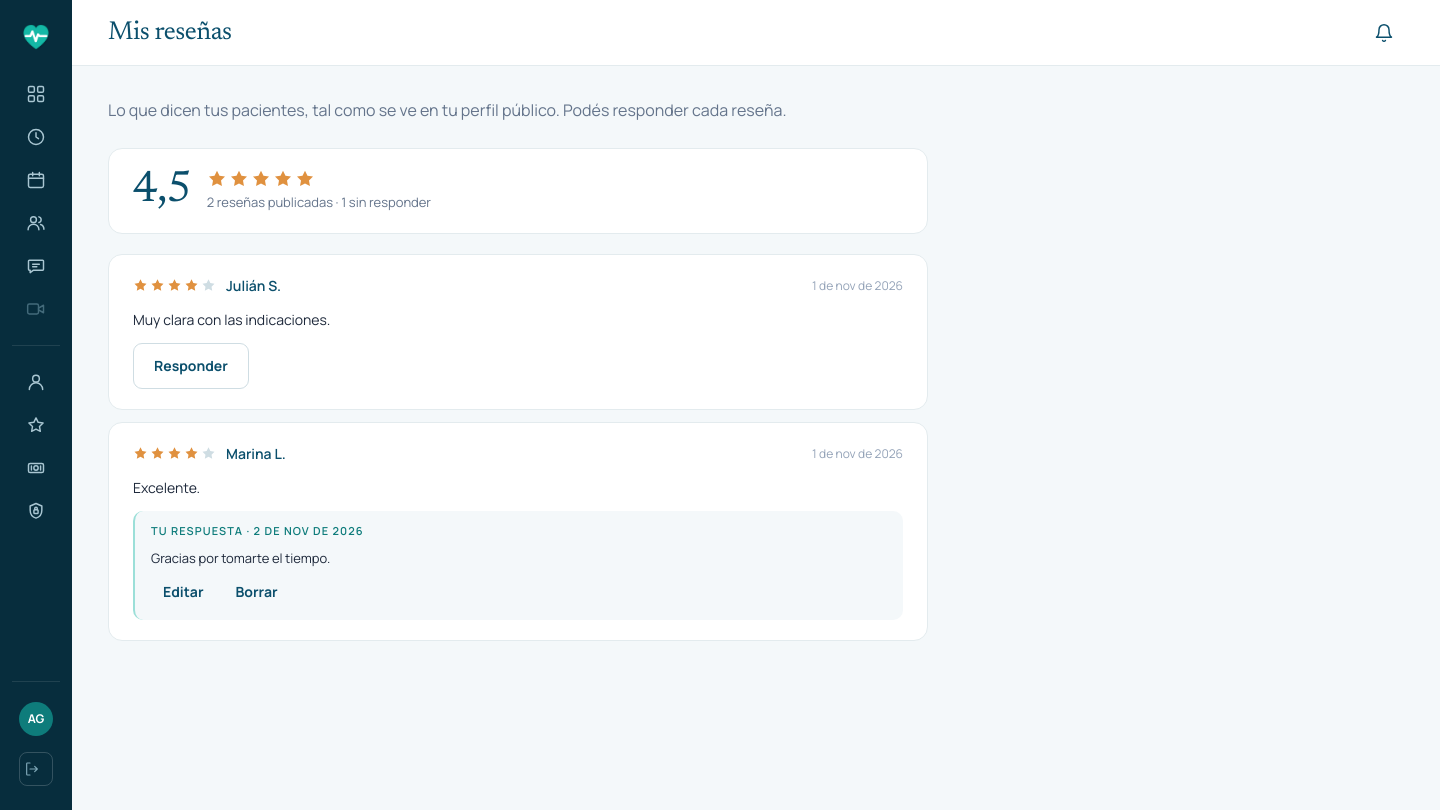
Test: Mis reseñas (ENG-106) › responde una reseña y la respuesta queda publicada
Click the button "Responder" at (191, 366), box [133,343,249,389]
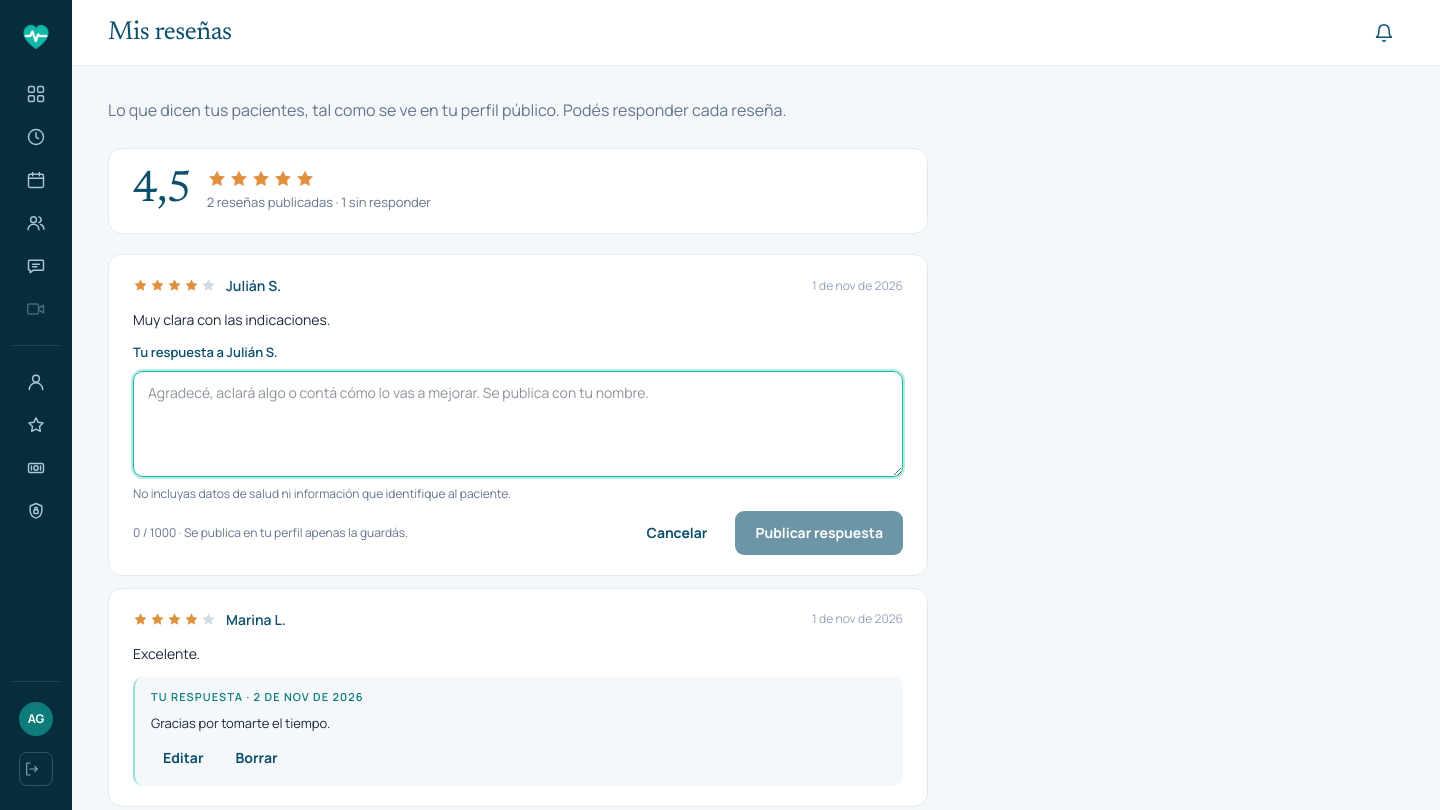
Type "  Gracias, Julián. Nos vemos en el control.  " into the text box labelled "Tu respuesta a Julián S." at (518, 424), box [133,371,903,477]
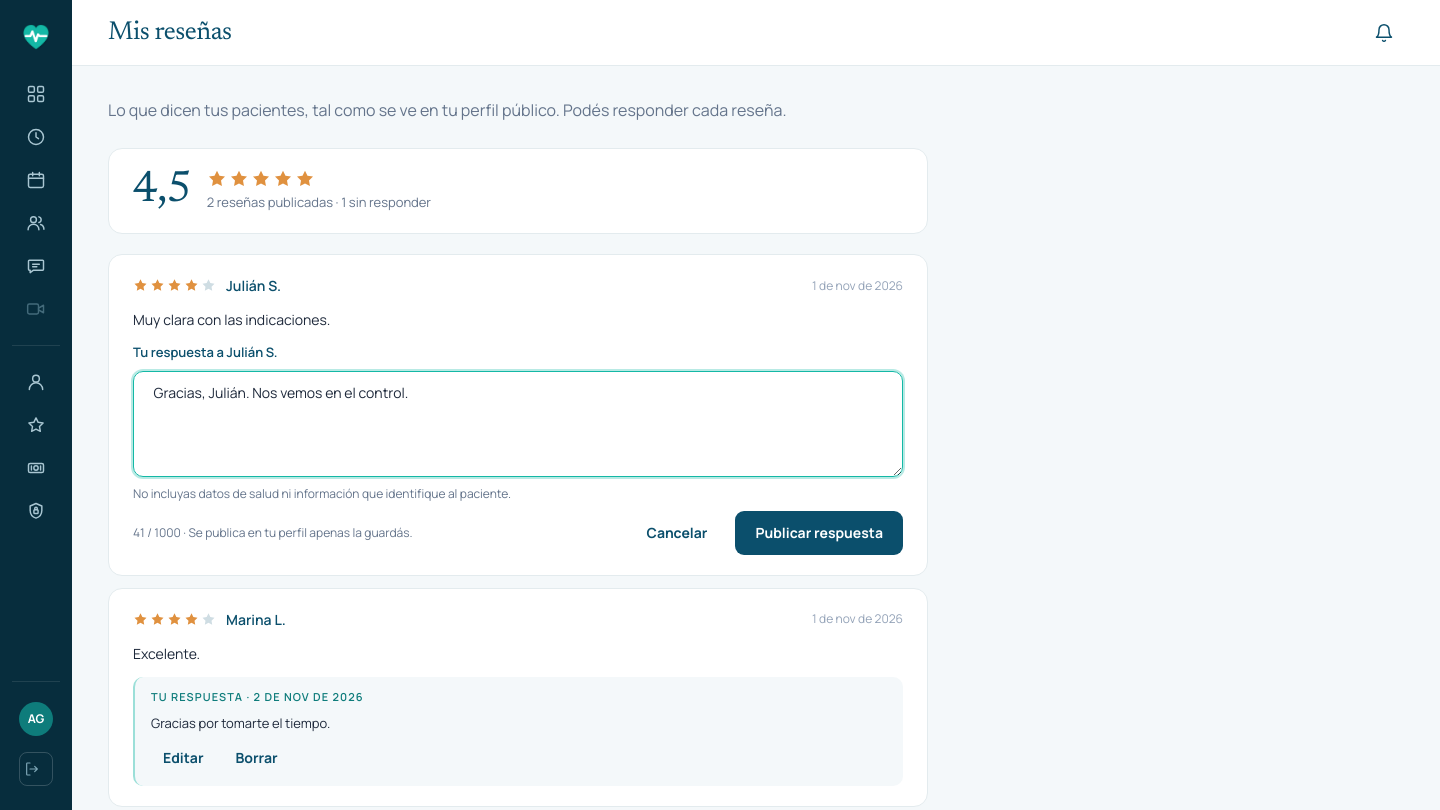
Click the button "Publicar respuesta" at (819, 533), box [736,511,903,555]
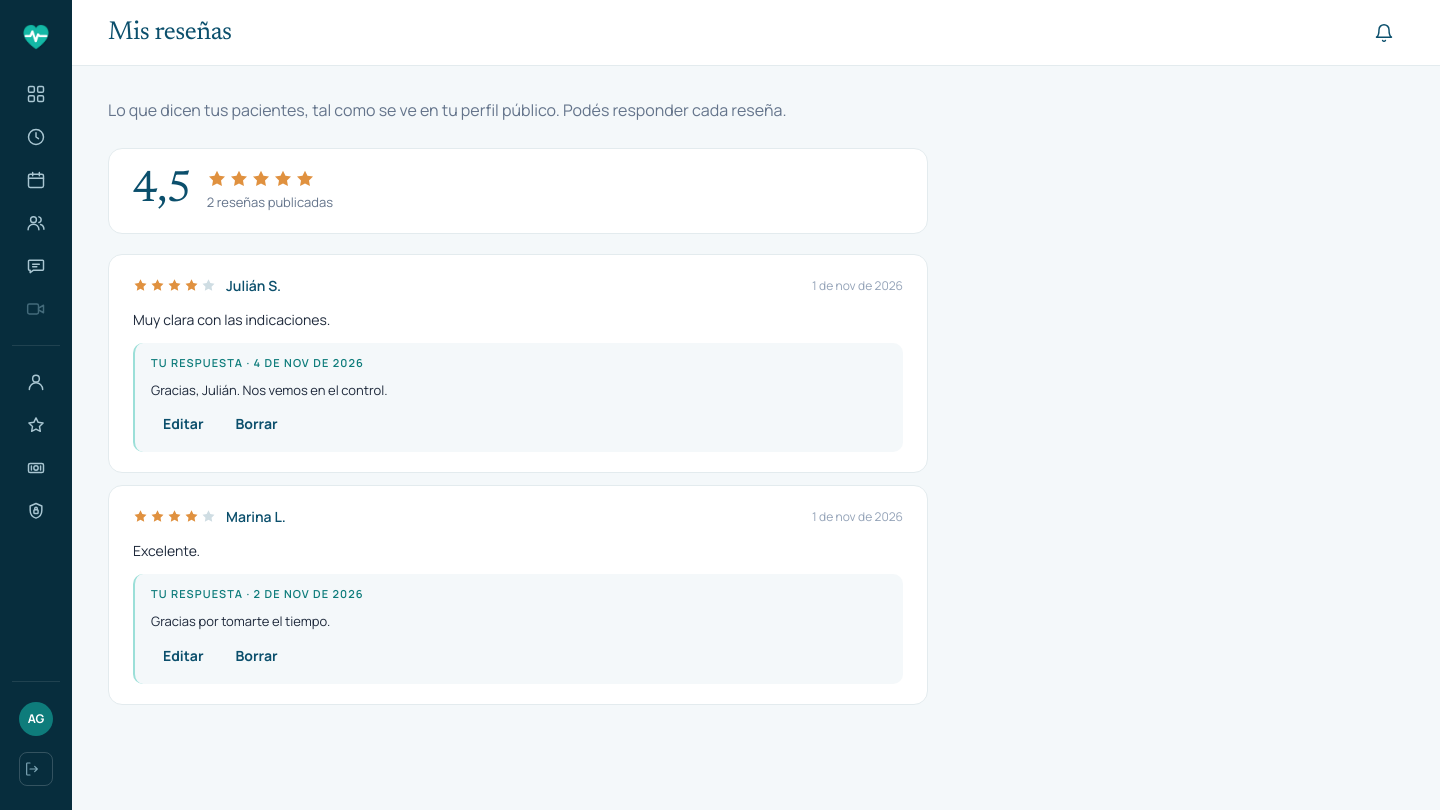
Check: the text "Gracias, Julián. Nos vemos en el control." is shown, box [151,381,388,399]
